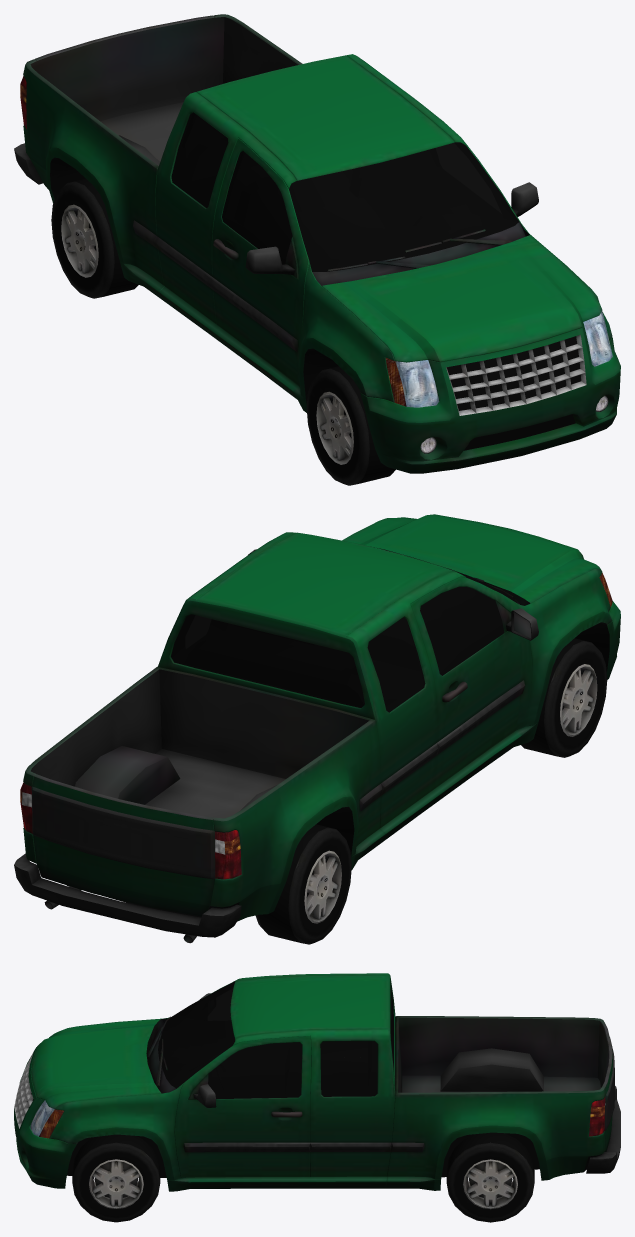
File: truck.glb
The picture shows the model from 3 angles, top to bottom: view 1: azimuth 30°, elevation 25°; view 2: azimuth 150°, elevation 25°; view 3: azimuth 270°, elevation 25°; orthographic projection. The views are drawn at different scales.
Parts seen in each view (by area): view 1: Pickup Body_Body_0, Pickup Body_Glass_0, Wheel_E002_Wheel_0, Wheel_E003_Wheel_0, Pickup Body_Optics_0; view 2: Pickup Body_Body_0, Pickup Body_Glass_0, Wheel_E003_Wheel_0, Wheel_E002_Wheel_0, Pickup Body_Optics_0; view 3: Pickup Body_Body_0, Pickup Body_Glass_0, Wheel_E001_Wheel_0, Wheel_E_Wheel_0, Pickup Body_Optics_0.
Part boxes in pixels (bbox=[...]): Pickup Body_Body_0: bbox=[14, 14, 620, 473]; Pickup Body_Glass_0: bbox=[171, 112, 519, 271]; Wheel_E002_Wheel_0: bbox=[306, 366, 395, 485]; Wheel_E003_Wheel_0: bbox=[51, 178, 138, 298]; Pickup Body_Optics_0: bbox=[20, 76, 612, 453]; Pickup Body_Body_0: bbox=[14, 514, 620, 943]; Pickup Body_Glass_0: bbox=[171, 547, 518, 712]; Wheel_E003_Wheel_0: bbox=[255, 824, 351, 944]; Wheel_E002_Wheel_0: bbox=[521, 638, 607, 757]; Pickup Body_Optics_0: bbox=[20, 573, 612, 879]; Pickup Body_Body_0: bbox=[14, 973, 620, 1191]; Pickup Body_Glass_0: bbox=[158, 981, 393, 1098]; Wheel_E001_Wheel_0: bbox=[446, 1132, 534, 1222]; Wheel_E_Wheel_0: bbox=[72, 1134, 160, 1222]; Pickup Body_Optics_0: bbox=[30, 1097, 605, 1138].
Size of the model in its own units: 2.13 by 1.75 by 5.35.
4 materials, 3 textured.
